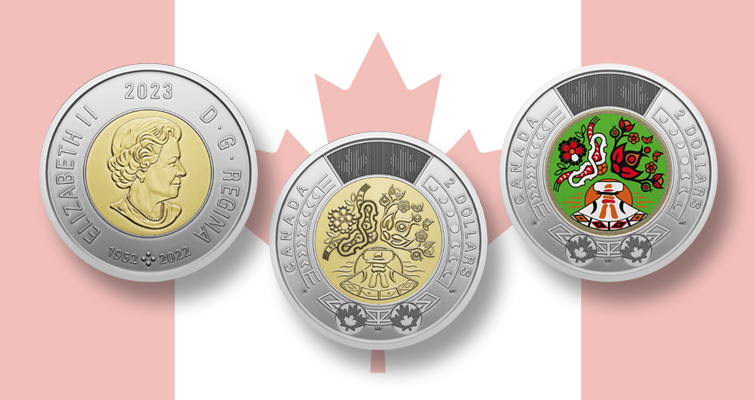coin: (40, 64, 256, 280), (271, 132, 486, 349), (500, 65, 716, 280)
